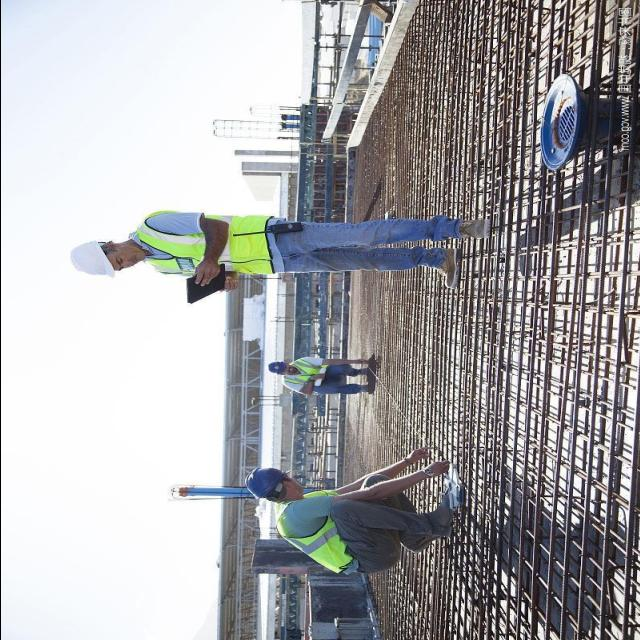helmet: (64, 236, 119, 281), (239, 461, 282, 501), (264, 357, 282, 377)
jacket: (124, 198, 274, 278), (272, 480, 362, 584), (286, 355, 326, 387)
